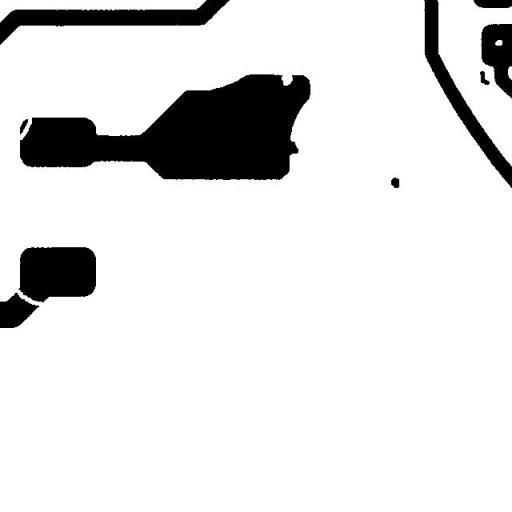copper: (472, 63, 497, 92), (384, 170, 406, 195)
mousebite: (274, 65, 300, 93)
open: (5, 280, 50, 313), (11, 108, 39, 147)
pin-hole: (487, 32, 510, 53)
spur: (276, 132, 306, 162)
